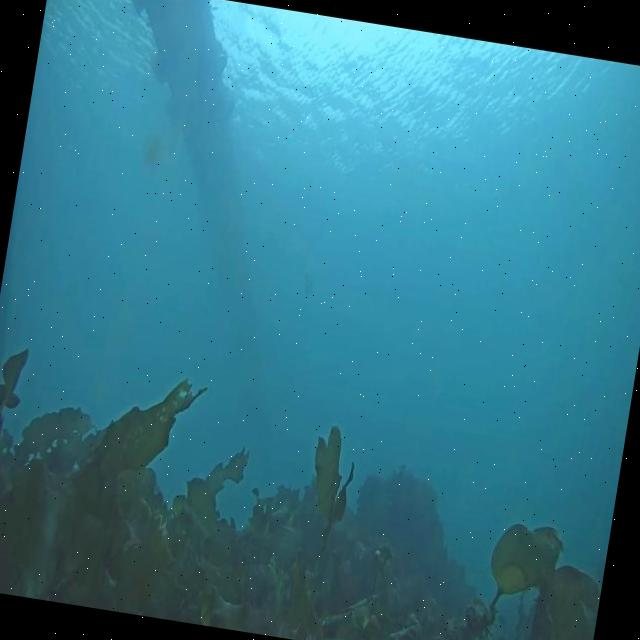fish: (531, 514, 572, 560), (465, 592, 496, 632), (300, 272, 320, 299)
